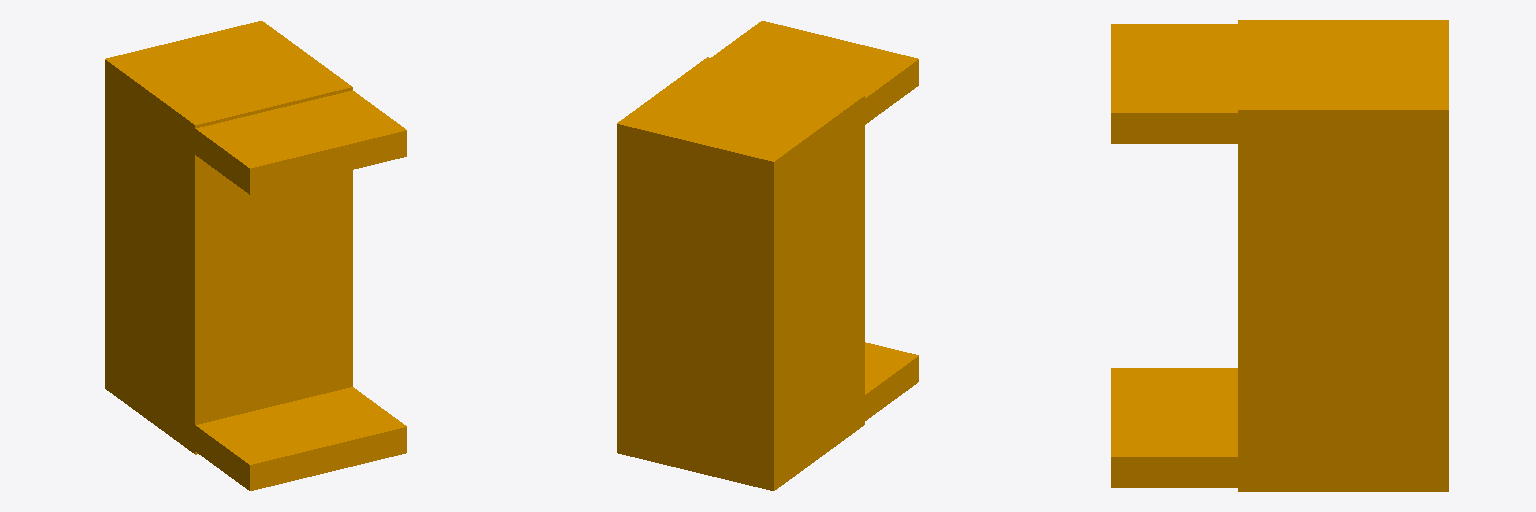
robot.urdf — dummy:
<?xml version="1.0"?>
<robot name="dummy">

  <material name="rack_blue"><color rgba="0.0 0.2 0.6 1.0"/></material>
  <material name="rack_orange"><color rgba="1.0 0.4 0.0 1.0"/></material>

  <link name="dummy">
    
    <inertial>
      <mass value="2.0"/>
      <origin xyz="0 0 0.1" rpy="0 0 0"/>
      <inertia ixx="0.1" ixy="0.0" ixz="0.0" iyy="0.1" iyz="0.0" izz="0.1"/>
    </inertial>

    <visual><origin xyz="0 0 0" rpy="0 0 0"/><geometry><mesh filename="box_station_base.dae"/></geometry></visual>
    <collision><origin xyz="0 0 0" rpy="0 0 0"/><geometry><mesh filename="box_station_base.dae"/></geometry></collision>

    <visual><origin xyz="0 0 0" rpy="0 0 0"/><geometry><mesh filename="box_station_1.dae"/></geometry></visual>
    <collision><origin xyz="0 0 0" rpy="0 0 0"/><geometry><mesh filename="box_station_1.dae"/></geometry></collision>

    <visual><origin xyz="0 0 0" rpy="0 0 0"/><geometry><mesh filename="box_station_2.dae"/></geometry></visual>
    <collision><origin xyz="0 0 0" rpy="0 0 0"/><geometry><mesh filename="box_station_2.dae"/></geometry></collision>

  </link>
</robot>

--- Facts derived from the render (not from the file) ---
Views: 3 orthographic renders of the robot side by side, from view 1: azimuth 30°, elevation 25°; view 2: azimuth 150°, elevation 25°; view 3: azimuth 270°, elevation 25°.
Model dummy with 1 links and 0 joints (none), rooted at dummy, posed every joint at zero.
Visible links, largest first — view 1: dummy; view 2: dummy; view 3: dummy.
Link boxes in pixels (x1,y1,x2,y2): dummy: [105, 21, 406, 490]; dummy: [617, 21, 918, 490]; dummy: [1111, 20, 1448, 491].
Size in the robot's own frame: 0.5 by 0.8 by 1 metres.
Meshes: 3 distinct files referenced, 3 mesh visuals loaded (3 Collada DAE).
